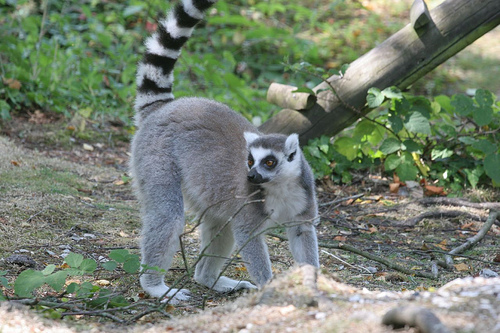cat: (133, 2, 321, 302)
